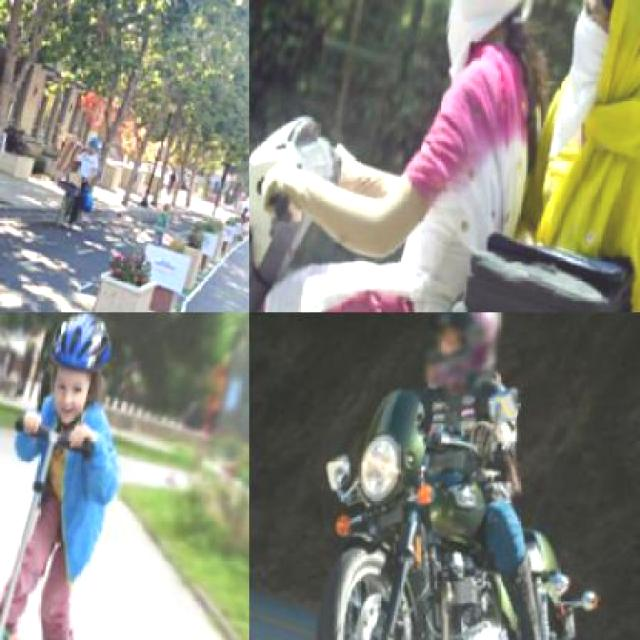With Helmet: (20, 312, 128, 436), (398, 313, 517, 402), (78, 129, 100, 156)
Without Helmet: (560, 0, 638, 89), (409, 0, 569, 35)
